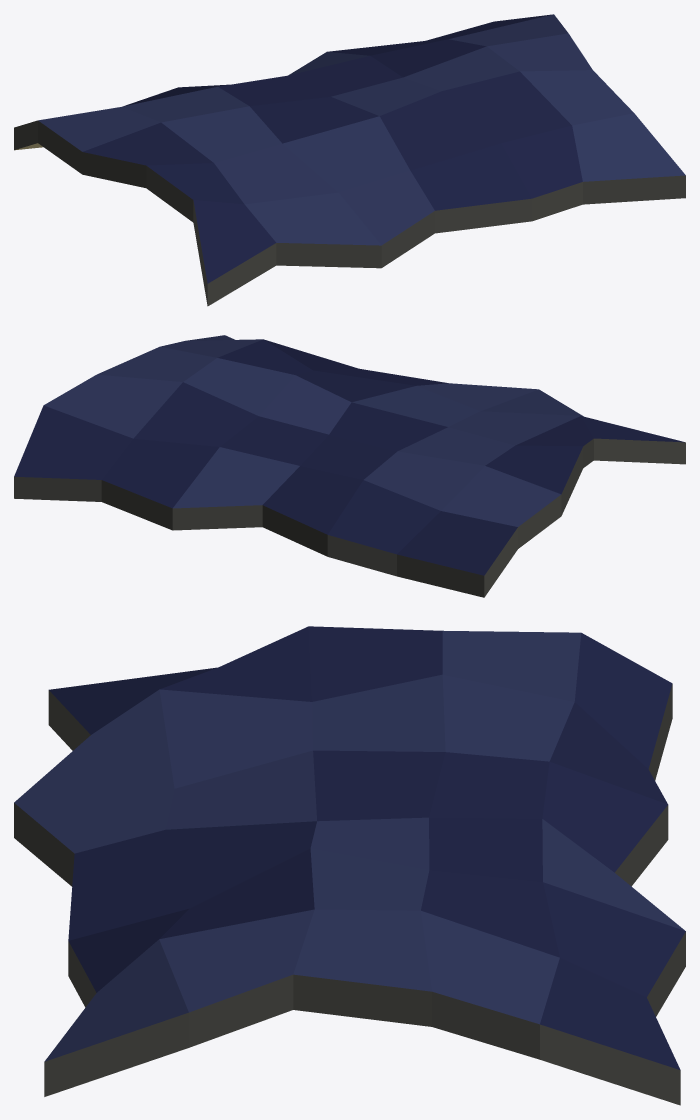
File: deb-panel-01.obj
The picture shows the model from 3 angles, top to bottom: view 1: azimuth 30°, elevation 25°; view 2: azimuth 150°, elevation 25°; view 3: azimuth 270°, elevation 25°; orthographic projection. The views are drawn at different scales.
Parts seen in each view (by area): view 1: deb-panel-01; view 2: deb-panel-01; view 3: deb-panel-01.
Part boxes in pixels (x1,y1,x2,y2): deb-panel-01: (14, 14, 685, 306); deb-panel-01: (14, 335, 685, 597); deb-panel-01: (14, 626, 685, 1105).
Size of the model in its own units: 0.4645 by 0.0729 by 0.3449.
